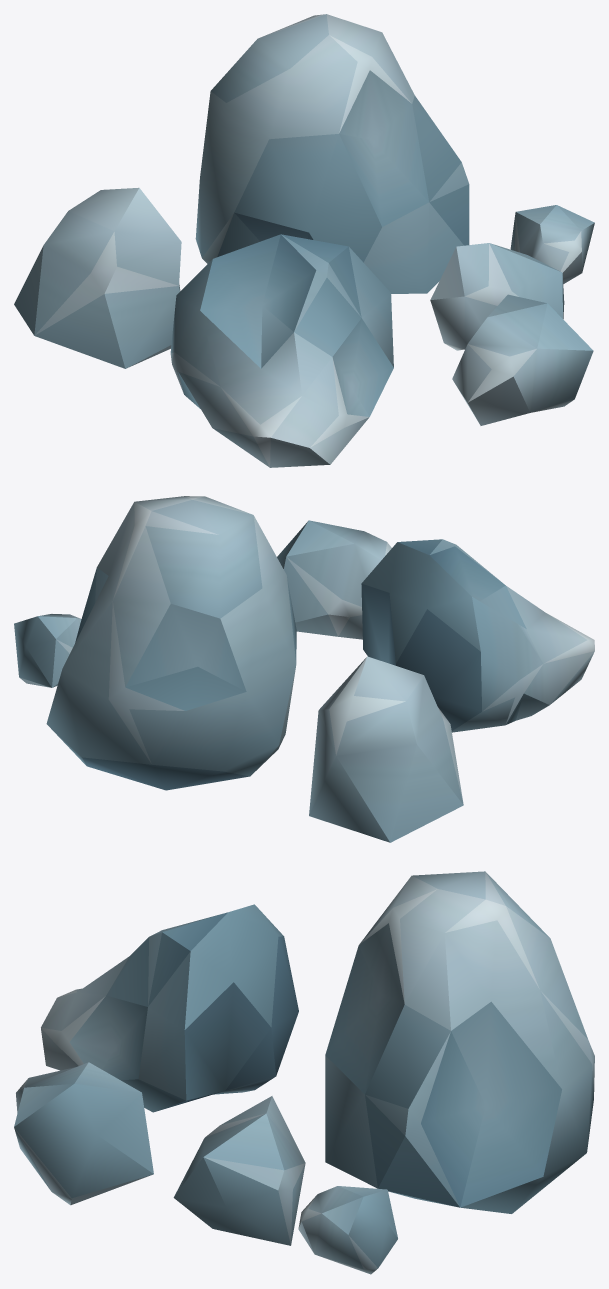
The model's file is Mithril.glb.
The picture shows the model from 3 angles, top to bottom: view 1: azimuth 30°, elevation 25°; view 2: azimuth 150°, elevation 25°; view 3: azimuth 270°, elevation 25°; orthographic projection. The views are drawn at different scales.
Visible parts, largest first — view 1: Silver_Nuggets; view 2: Silver_Nuggets; view 3: Silver_Nuggets.
Boxes of the visible parts, x1,y1,x2,y2 form: Silver_Nuggets: (14, 14, 594, 467); Silver_Nuggets: (14, 496, 594, 842); Silver_Nuggets: (14, 871, 594, 1274).
Size of the model in its own units: 0.9288 by 0.4749 by 0.8501.
Materials: 1 (1 with a texture image).
